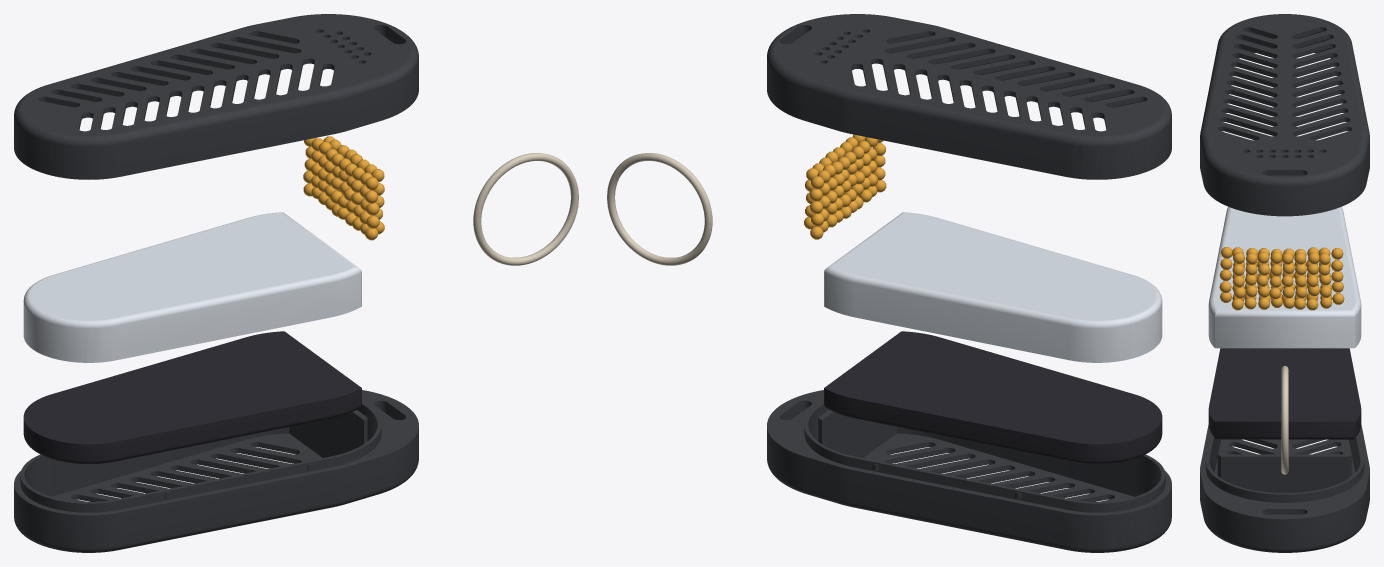
Rendered from solefresh_v3_2_M_exploded.glb.
The picture shows the model from 3 angles, left to right: view 1: azimuth 30°, elevation 25°; view 2: azimuth 150°, elevation 25°; view 3: azimuth 270°, elevation 25°; orthographic projection. The views are drawn at different scales.
Visible parts, largest first — view 1: shell_top, shell_bottom, silica_sachet, carbon_sachet, scent_beads, pull_cord; view 2: shell_top, shell_bottom, silica_sachet, carbon_sachet, scent_beads, pull_cord; view 3: shell_top, shell_bottom, silica_sachet, carbon_sachet, scent_beads, pull_cord.
Boxes of the visible parts, x1,y1,x2,y2 form: shell_top: (14,14,418,179); shell_bottom: (14,390,418,552); silica_sachet: (23,212,361,362); carbon_sachet: (23,331,361,464); scent_beads: (303,136,384,240); pull_cord: (473,153,578,265); shell_top: (767,14,1171,179); shell_bottom: (767,390,1171,552); silica_sachet: (824,212,1162,362); carbon_sachet: (824,331,1162,464); scent_beads: (804,134,886,239); pull_cord: (607,153,712,265); shell_top: (1200,14,1369,216); shell_bottom: (1200,425,1369,552); silica_sachet: (1208,207,1361,348); carbon_sachet: (1208,348,1361,439); scent_beads: (1219,247,1344,310); pull_cord: (1281,366,1288,474).
Size of the model in its own units: 0.159 by 0.114 by 0.0468.
